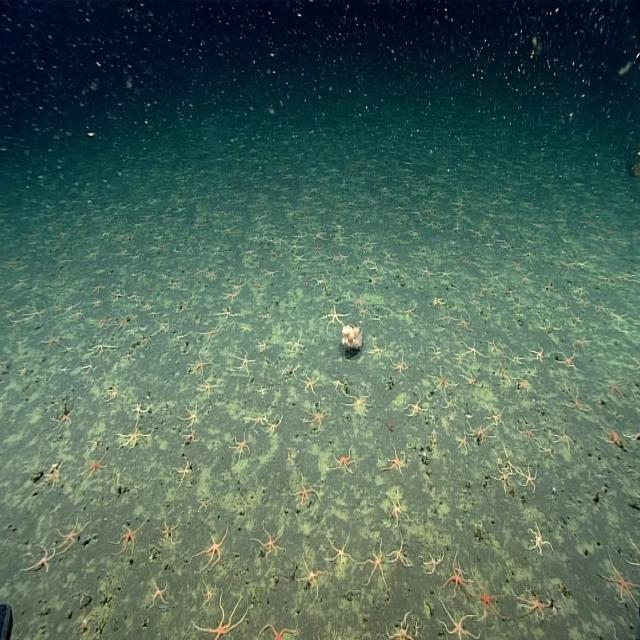brittle-stars: (194, 585, 252, 640), (594, 544, 640, 602), (467, 560, 505, 622), (434, 588, 478, 638), (192, 524, 230, 575), (382, 594, 422, 640), (508, 580, 561, 614), (106, 517, 146, 561), (252, 514, 286, 564), (356, 528, 388, 581), (323, 524, 358, 566), (260, 609, 307, 640), (297, 547, 326, 596), (443, 548, 472, 595), (62, 509, 96, 549), (24, 536, 62, 571), (380, 481, 413, 519), (291, 468, 321, 509), (327, 438, 359, 476), (384, 528, 412, 570), (382, 437, 409, 479), (426, 361, 457, 395), (525, 523, 554, 557), (45, 452, 69, 492), (343, 387, 371, 421), (489, 457, 515, 493), (159, 508, 183, 546), (420, 538, 446, 573), (322, 302, 350, 334), (546, 418, 573, 451), (514, 459, 539, 494), (121, 421, 155, 446), (302, 398, 330, 428), (84, 448, 112, 478), (147, 576, 170, 612), (232, 423, 253, 460), (596, 424, 623, 452), (480, 396, 504, 426), (234, 344, 256, 376), (458, 336, 484, 362), (400, 392, 427, 417), (556, 385, 583, 410), (89, 338, 123, 357), (464, 416, 489, 441), (189, 352, 215, 376), (552, 347, 578, 371), (180, 398, 203, 424), (104, 379, 130, 402), (512, 418, 540, 439), (525, 340, 546, 368), (91, 309, 115, 333), (172, 458, 194, 484), (606, 377, 628, 403), (388, 346, 407, 376), (261, 409, 283, 434), (452, 422, 469, 453), (42, 330, 66, 351), (283, 331, 307, 352), (180, 422, 203, 443), (215, 304, 239, 324), (511, 374, 532, 396), (502, 345, 524, 366), (200, 323, 225, 341), (483, 333, 500, 357), (198, 377, 218, 397), (132, 398, 152, 418), (398, 299, 419, 318), (452, 307, 470, 329), (195, 495, 215, 514), (304, 370, 320, 393), (363, 339, 385, 355), (436, 306, 458, 322), (428, 290, 447, 308), (329, 373, 347, 392), (66, 305, 87, 321), (534, 437, 552, 455), (115, 310, 133, 328), (155, 316, 173, 334), (246, 413, 270, 426), (358, 304, 371, 318)
